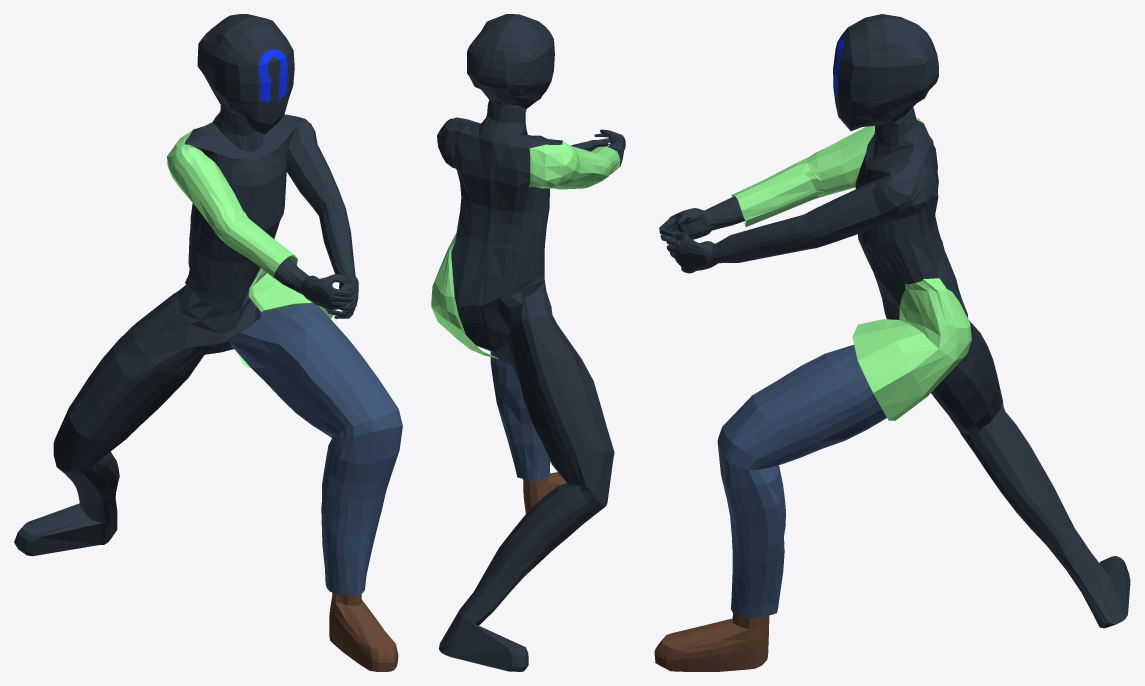
Rendered from Mar_Attack_000026.obj.
The picture shows the model from 3 angles, left to right: view 1: azimuth 30°, elevation 25°; view 2: azimuth 150°, elevation 25°; view 3: azimuth 270°, elevation 25°; orthographic projection. The views are drawn at different scales.
Visible parts, largest first — view 1: Cube.000_Cube.001; view 2: Cube.000_Cube.001; view 3: Cube.000_Cube.001.
Part boxes in pixels (x1,y1,x2,y2): Cube.000_Cube.001: [14, 14, 402, 671]; Cube.000_Cube.001: [431, 14, 625, 671]; Cube.000_Cube.001: [654, 14, 1130, 671].
Bounding box in the file's own units: 1.35 × 3.34 × 2.28.
